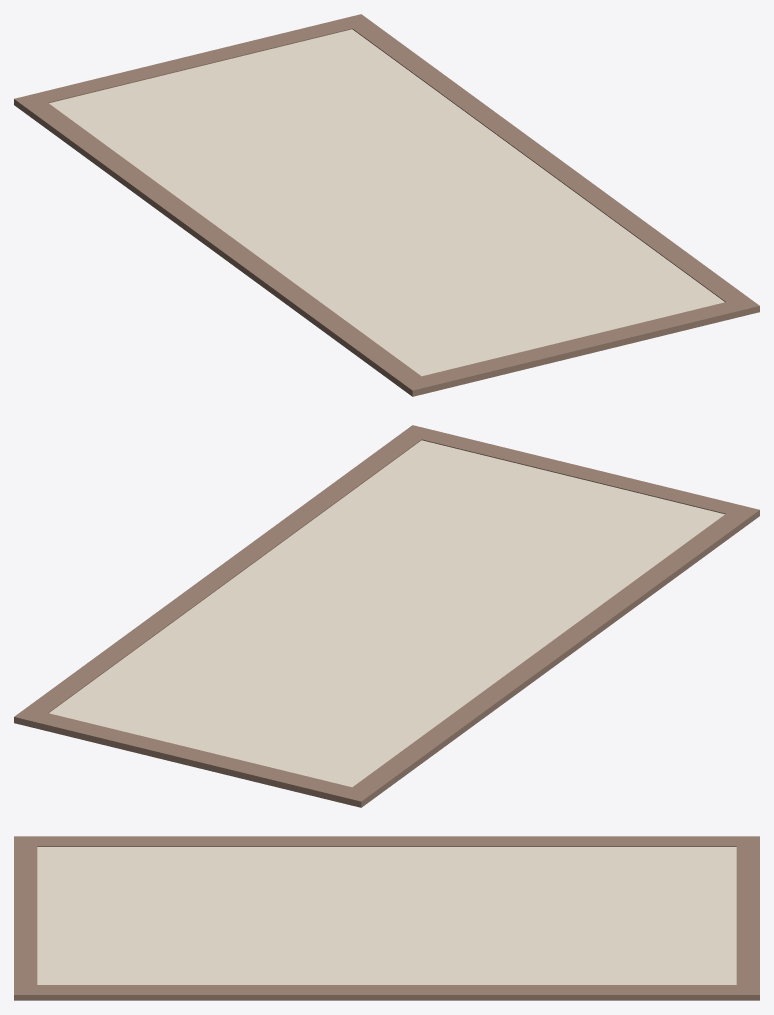
The model's file is chieu_coi_thien.glb.
3 views of the same model, one above another, from view 1: azimuth 30°, elevation 25°; view 2: azimuth 150°, elevation 25°; view 3: azimuth 270°, elevation 25° (orthographic). The views are drawn at different scales.
Visible parts, largest first — view 1: chieu_coi_thien.001; view 2: chieu_coi_thien.001; view 3: chieu_coi_thien.001.
Boxes of the visible parts, box(x1,y1,x2,y2) form: chieu_coi_thien.001: box(14, 14, 759, 396); chieu_coi_thien.001: box(14, 425, 759, 807); chieu_coi_thien.001: box(14, 836, 759, 1000).
Bounding box in the file's own units: 0.81 × 0.014 × 1.61.
